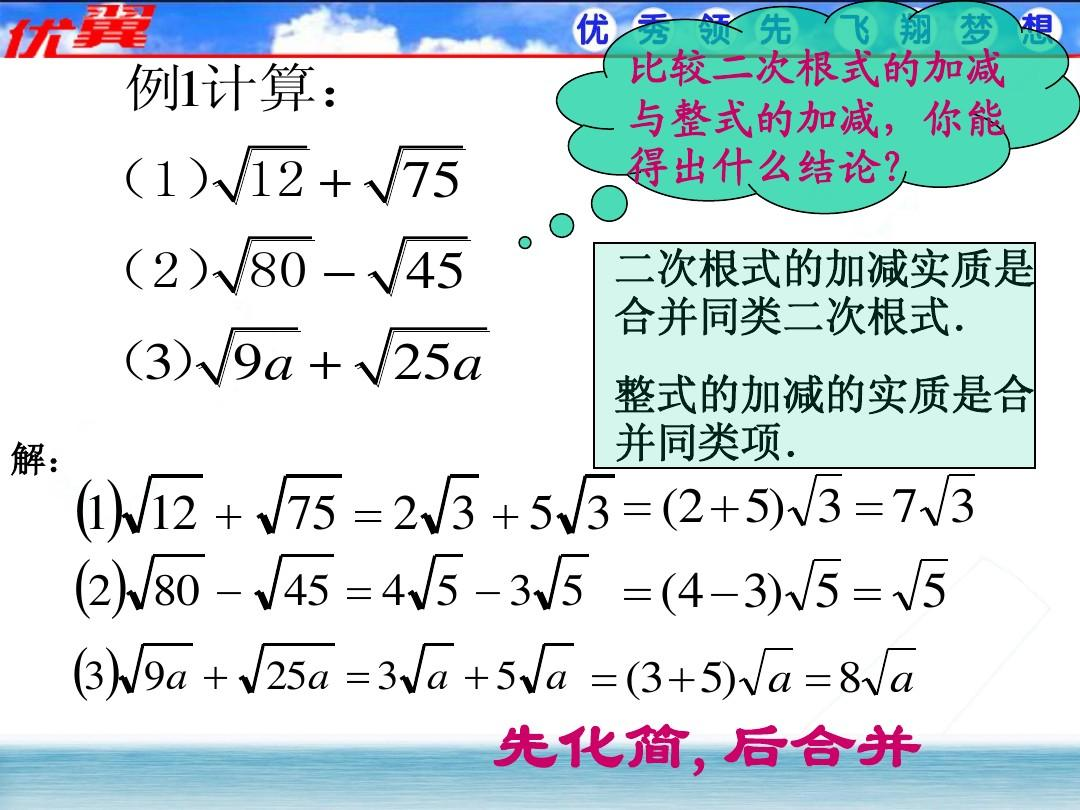sqrt: (358, 321, 499, 391), (356, 133, 468, 211), (193, 322, 304, 399), (367, 235, 473, 300), (213, 231, 316, 296), (242, 639, 340, 703), (257, 471, 348, 539), (212, 141, 307, 206), (131, 548, 218, 617), (119, 470, 205, 538), (251, 551, 338, 615), (556, 469, 617, 544), (783, 468, 849, 536), (418, 469, 483, 538), (120, 637, 195, 696), (408, 552, 470, 617), (920, 468, 978, 534), (397, 637, 457, 700), (787, 557, 852, 615), (536, 549, 591, 615), (895, 555, 953, 616), (518, 641, 582, 696), (741, 641, 803, 696), (861, 643, 922, 697)
